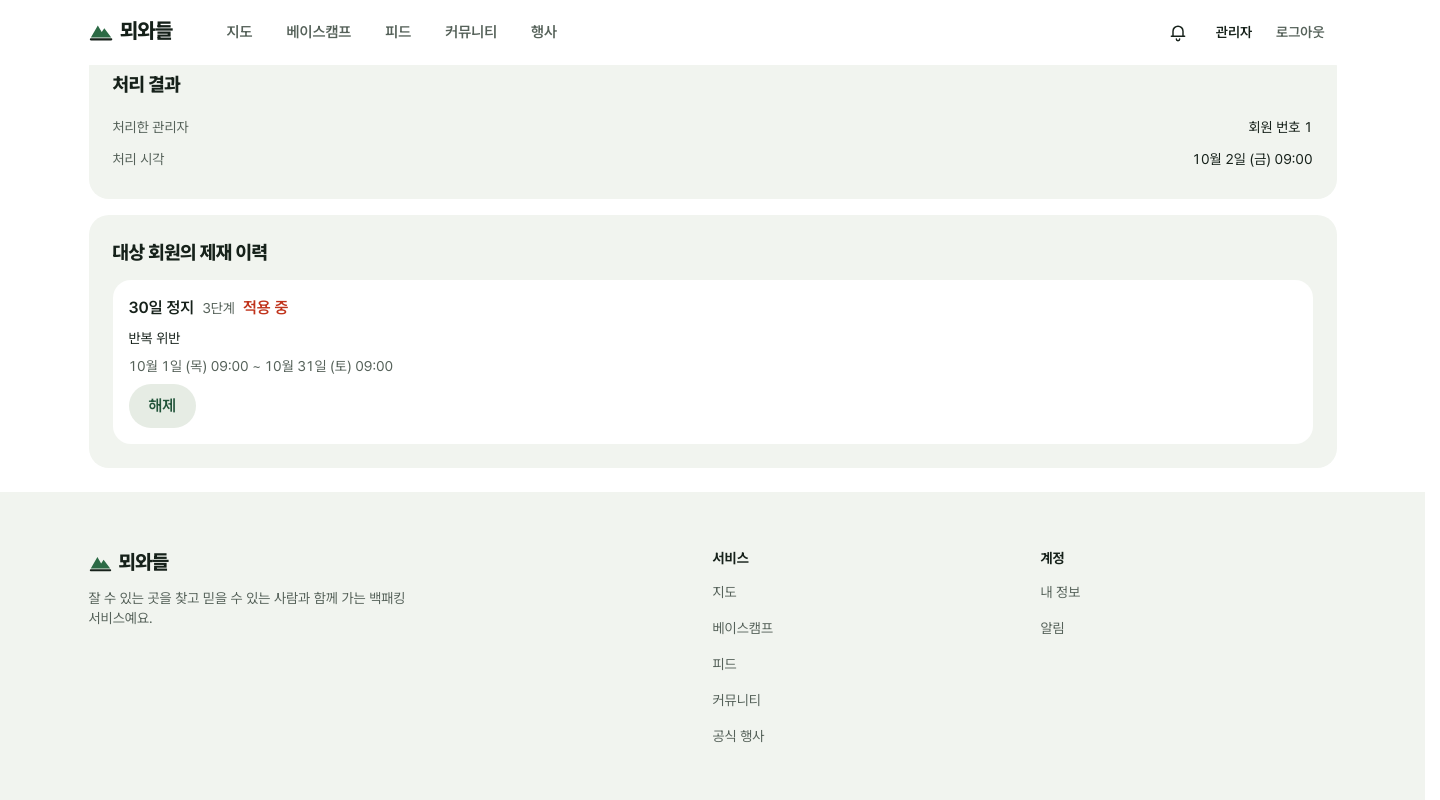
관리자 신고 상세의 제재 해제 › SN-15: 해제 사유를 고르기 전에는 해제할 수 없고, 고르면 사유 설명이 보인다
(page scrolled)
Click the button "해제" at point(162, 406), box [128,384,196,428]
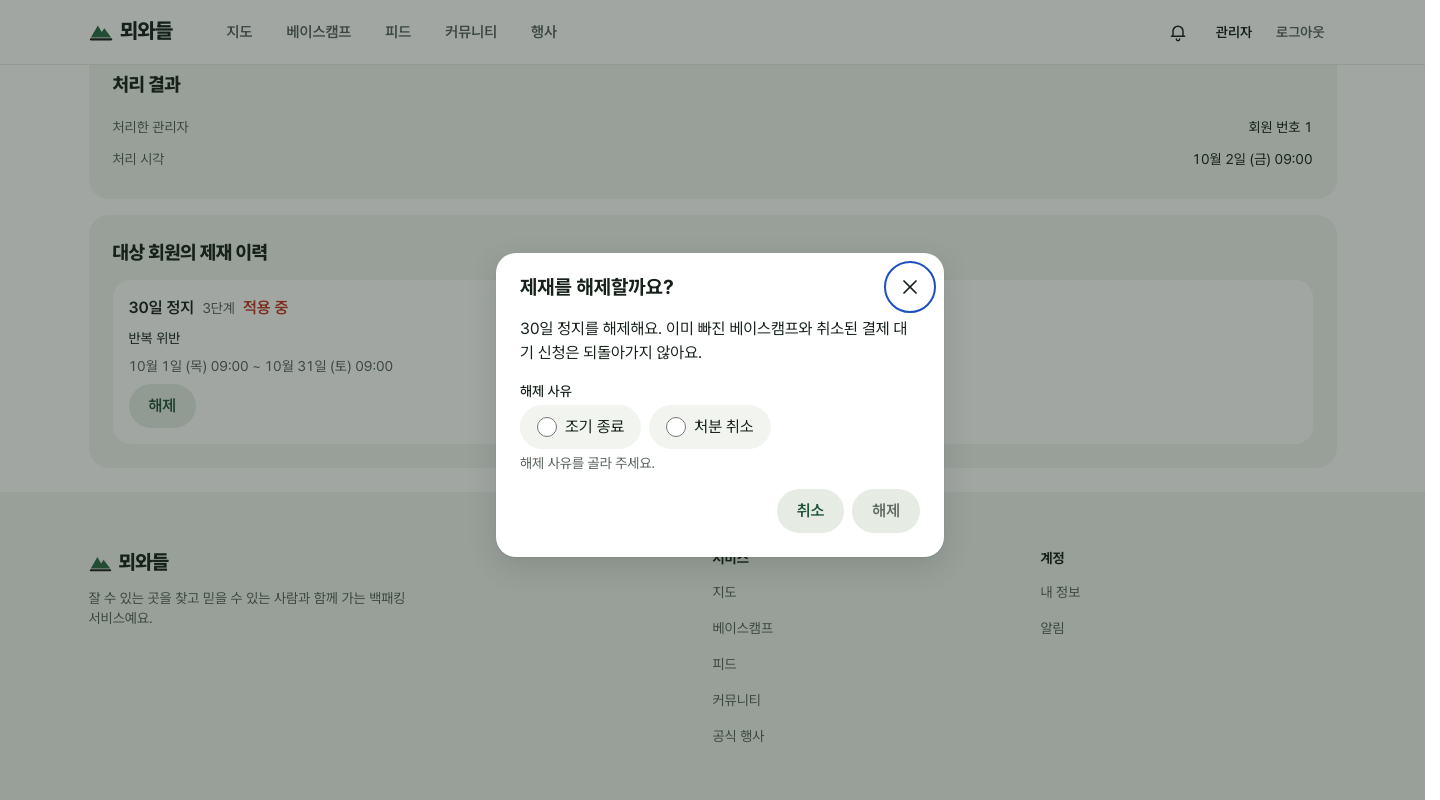
Expected: the button "해제" is disabled, [852,489,920,533]
Expected: the dialog shows "해제 사유를 골라 주세요.", [520,455,655,471]
Click the radio button labelled "조기 종료" at point(547, 427), box [537,417,557,437]
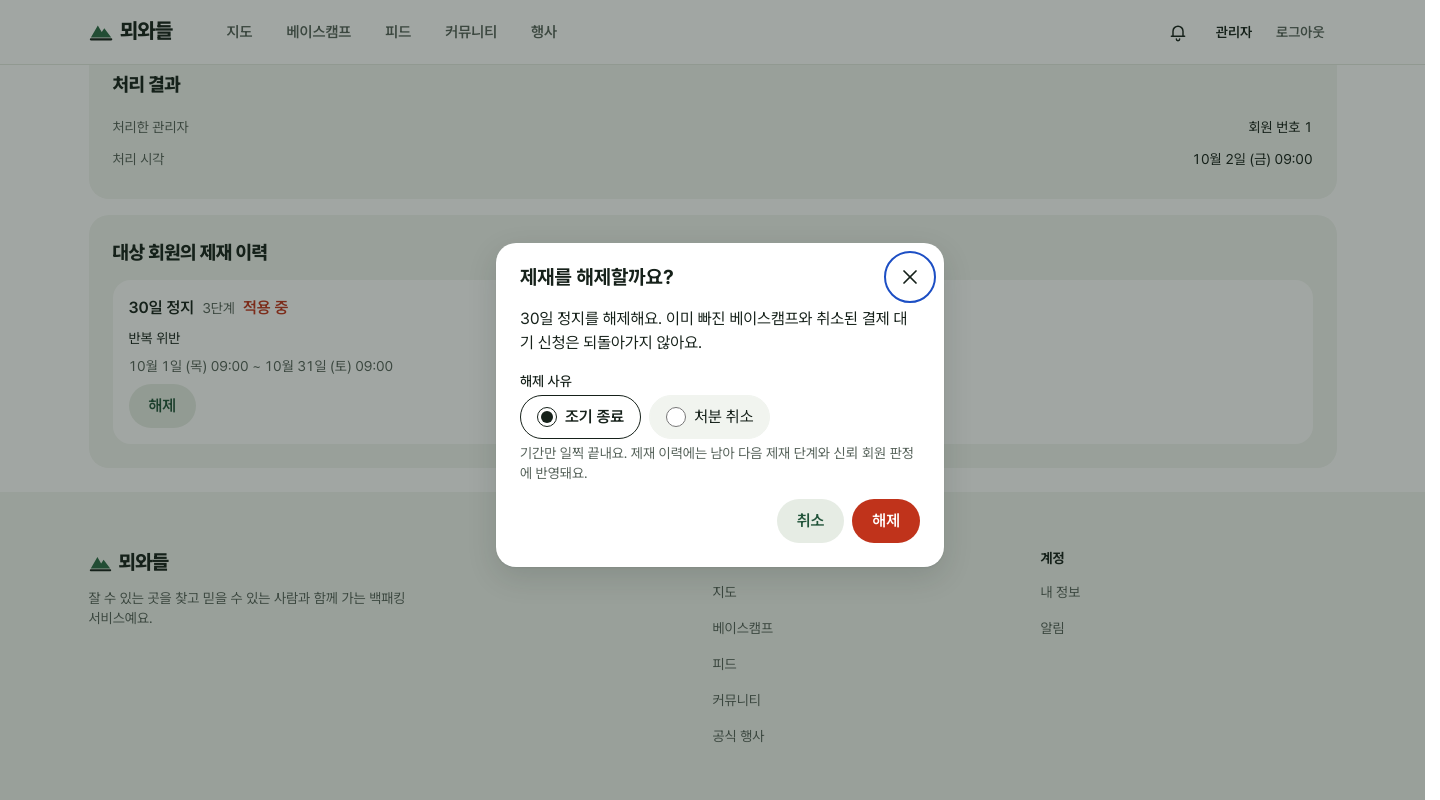
Expected: the button "해제" is enabled, [852,499,920,543]
Expected: the dialog shows "다음 제재 단계와 신뢰 회원 판정에 반영돼요.", [520,445,914,481]
Click the radio button labelled "처분 취소" at point(676, 417), box [666,407,686,427]
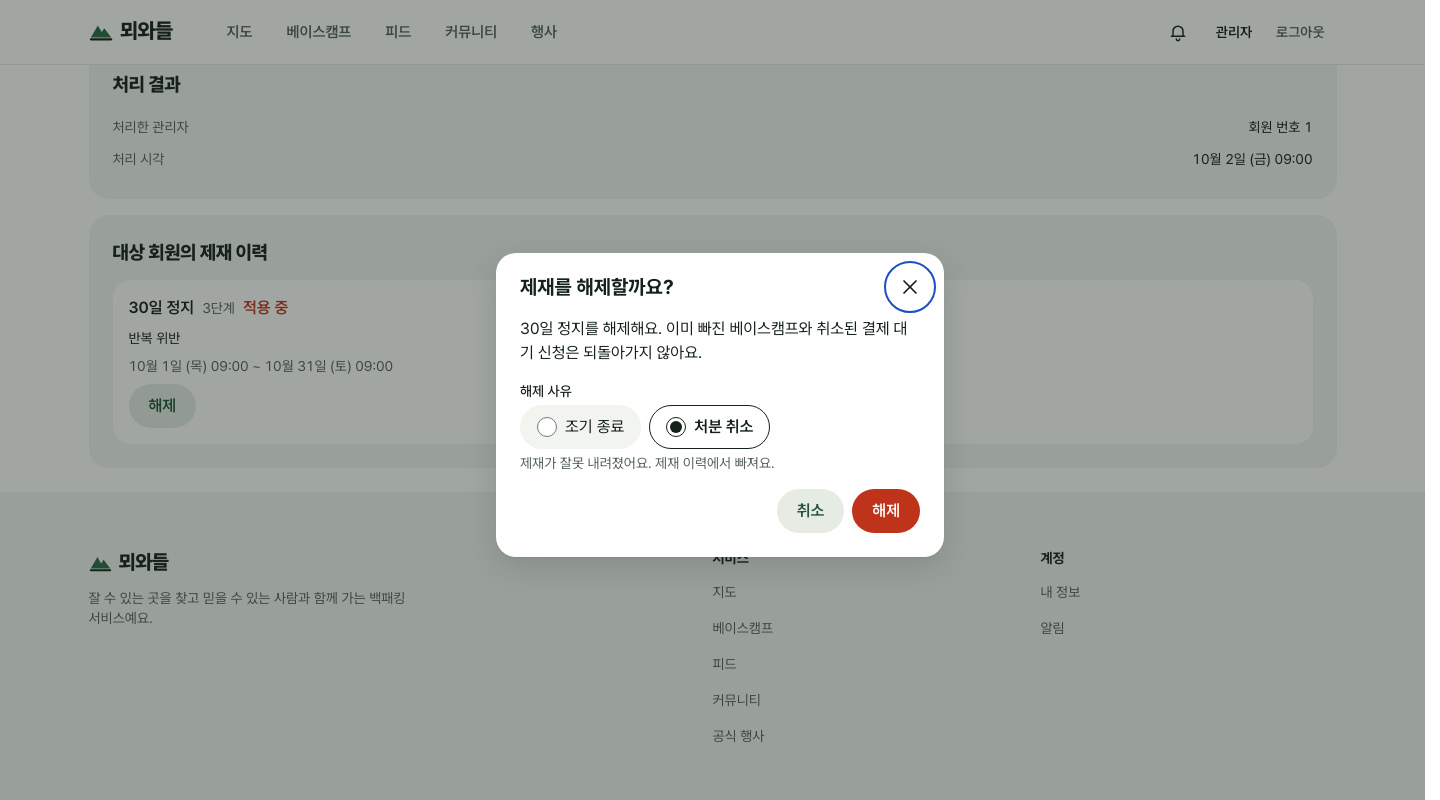
Expected: the dialog shows "제재 이력에서 빠져요.", [520,455,775,471]
